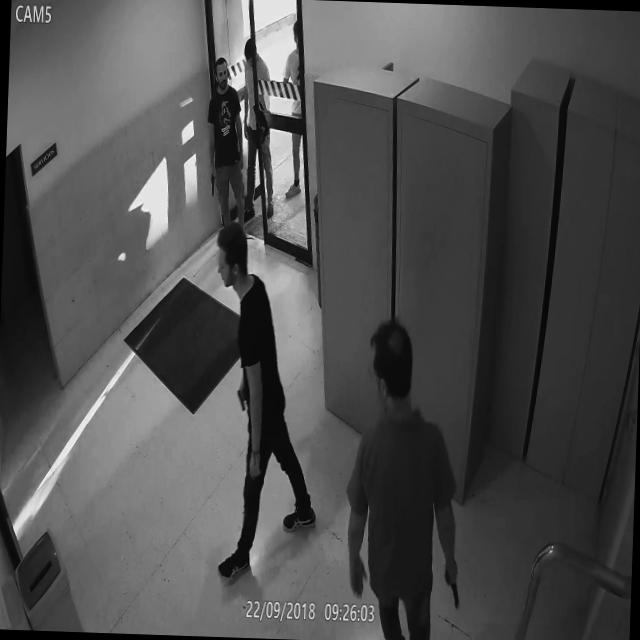gun: (440, 562, 464, 620), (287, 57, 306, 95), (206, 166, 218, 210)
person: (232, 34, 284, 224)
person with a gun: (192, 217, 324, 586), (343, 311, 474, 640), (202, 52, 257, 254), (278, 11, 323, 199)
